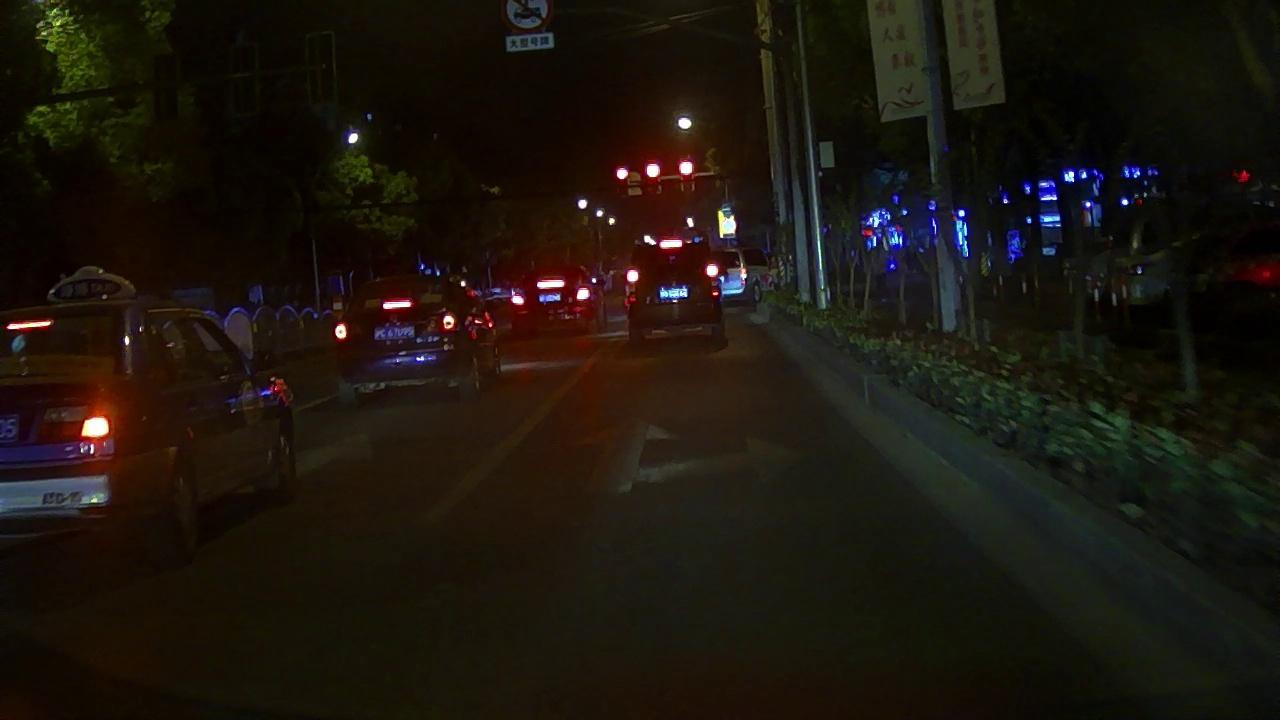traffic_light: (644, 161, 662, 180), (676, 159, 695, 177), (614, 165, 630, 181)
